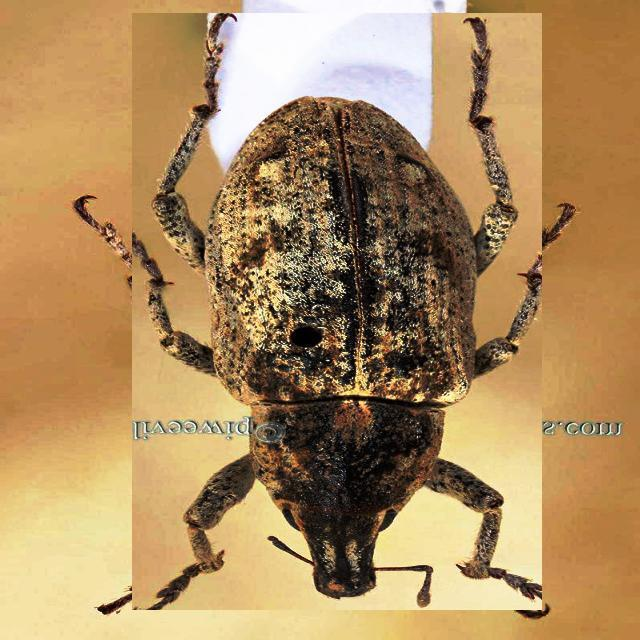rice-bug: (132, 13, 542, 610)
